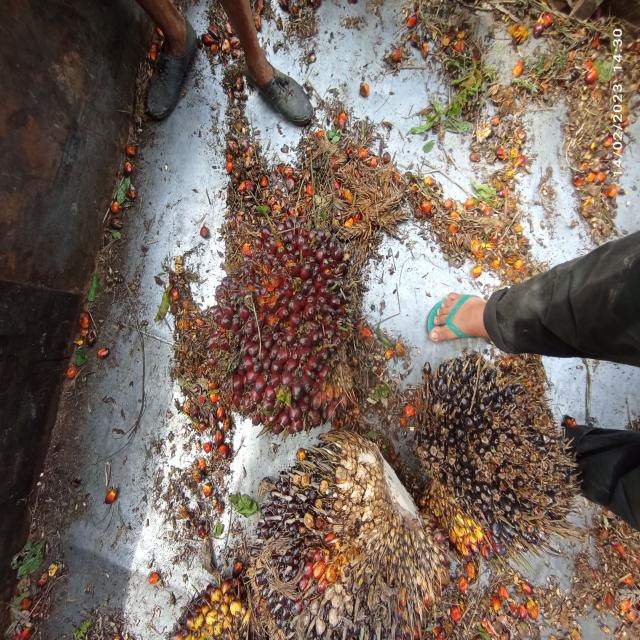fraksi 00: (244, 422, 472, 640), (393, 334, 592, 564)
fraksi 1: (203, 214, 378, 434)
